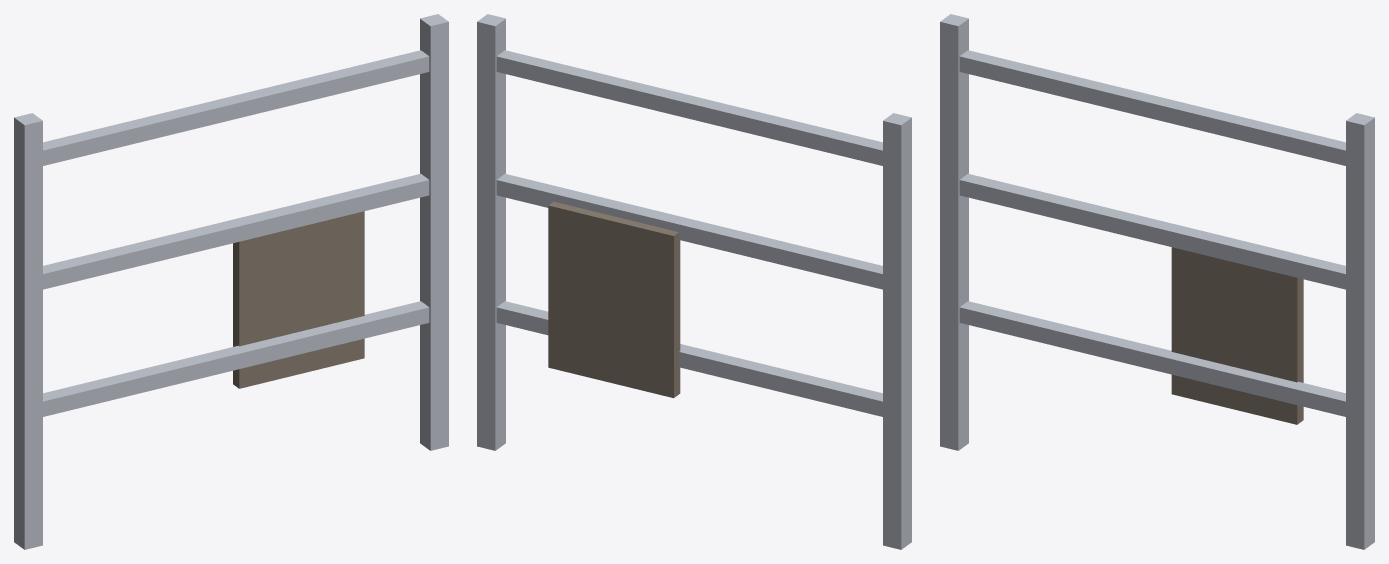
Rendered from raum_gestell.glb.
3 views of the same model, side by side, from view 1: azimuth 30°, elevation 25°; view 2: azimuth 150°, elevation 25°; view 3: azimuth 330°, elevation 25° (orthographic).
Parts seen in each view (by area): view 1: handtuch, staender_l, staender_r, sprosse_1, sprosse_2, sprosse_0; view 2: handtuch, staender_l, staender_r, sprosse_2, sprosse_1, sprosse_0; view 3: handtuch, staender_r, staender_l, sprosse_1, sprosse_2, sprosse_0.
Part boxes in pixels (<box>): handtuch: <box>233,211,364,388</box>; staender_l: <box>14,113,42,549</box>; staender_r: <box>420,14,448,450</box>; sprosse_1: <box>43,173,429,289</box>; sprosse_2: <box>43,50,429,165</box>; sprosse_0: <box>43,301,429,416</box>; handtuch: <box>548,201,680,398</box>; staender_l: <box>883,113,911,549</box>; staender_r: <box>477,14,505,450</box>; sprosse_2: <box>496,50,882,165</box>; sprosse_1: <box>496,173,882,289</box>; sprosse_0: <box>496,301,882,416</box>; handtuch: <box>1171,247,1303,424</box>; staender_r: <box>1346,113,1374,549</box>; staender_l: <box>940,14,968,450</box>; sprosse_1: <box>959,173,1345,289</box>; sprosse_2: <box>959,50,1345,165</box>; sprosse_0: <box>959,301,1345,416</box>.
Bounding box in the file's own units: 1.15 × 1.1 × 0.07.
